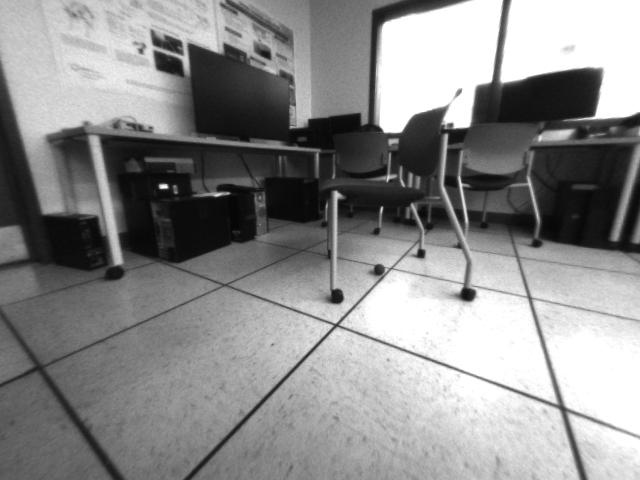dogtoy: (367, 259, 390, 279)
